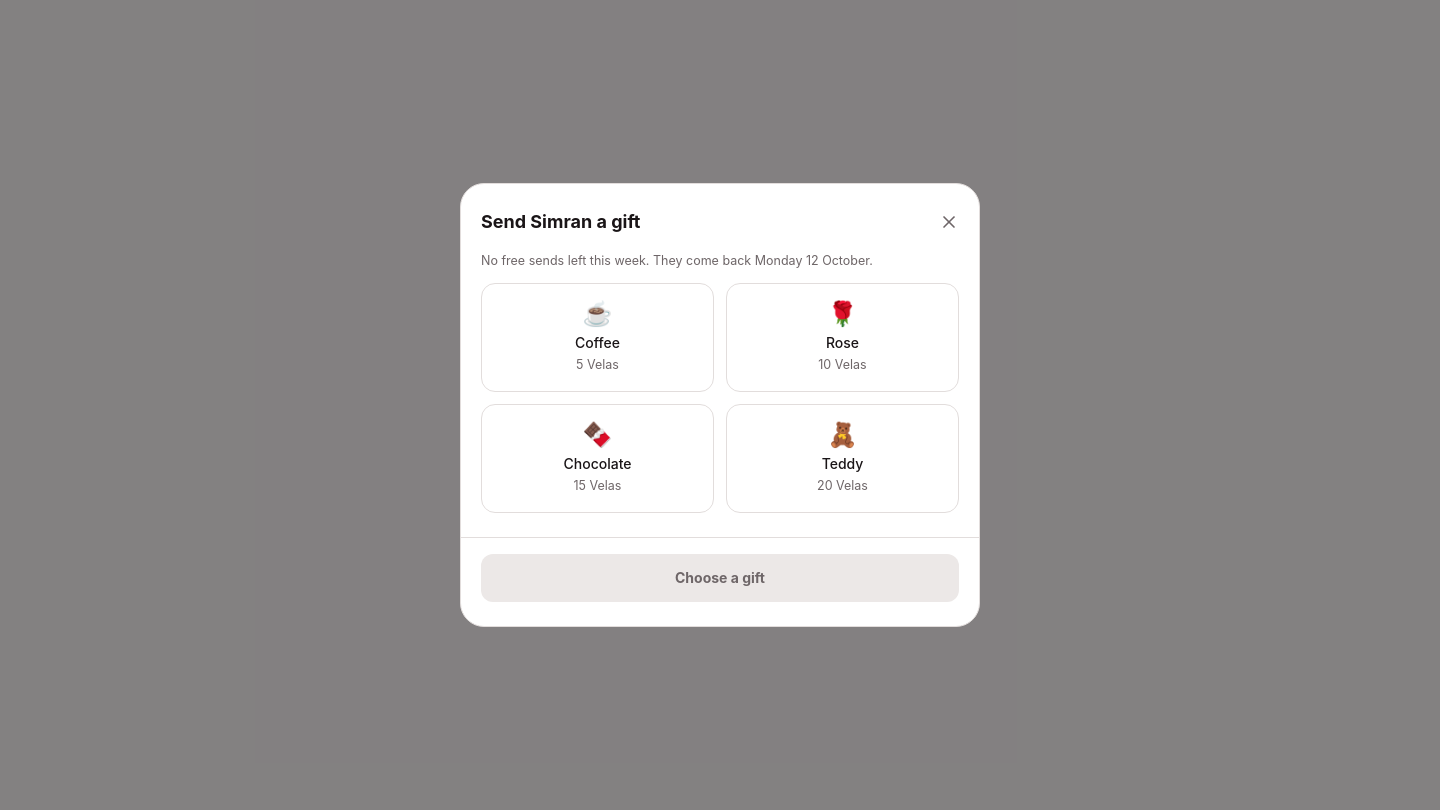
Test case: the gift sheet (T-8.10) › PRICE_CHANGED to 0: says it is free now
The width and height of the screenshot is (1440, 810).
Click the button "🌹 Rose 10 Velas" at (842, 337), box [726,283,959,392]
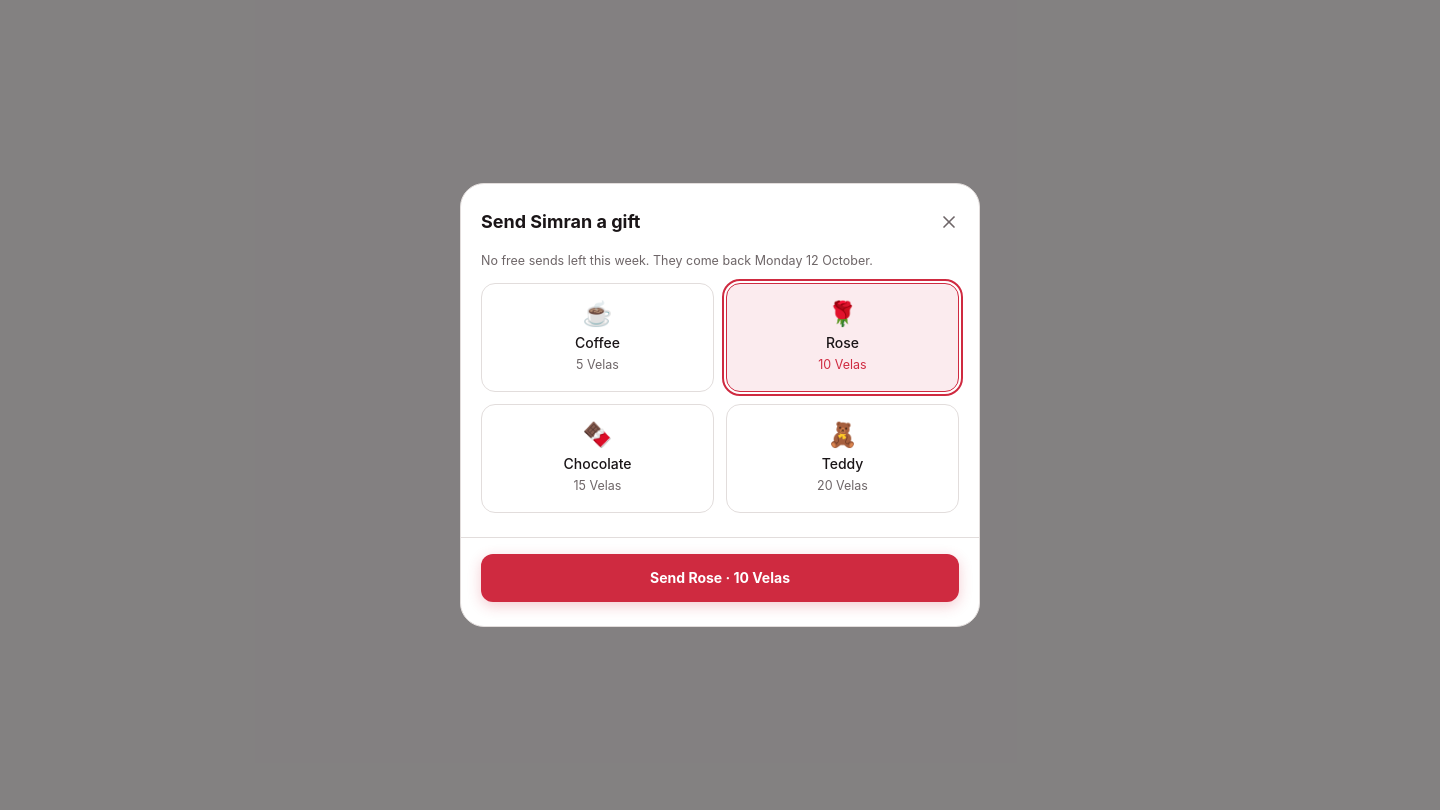
Click the button "Send Rose · 10 Velas" at (720, 578), box [481,554,959,602]
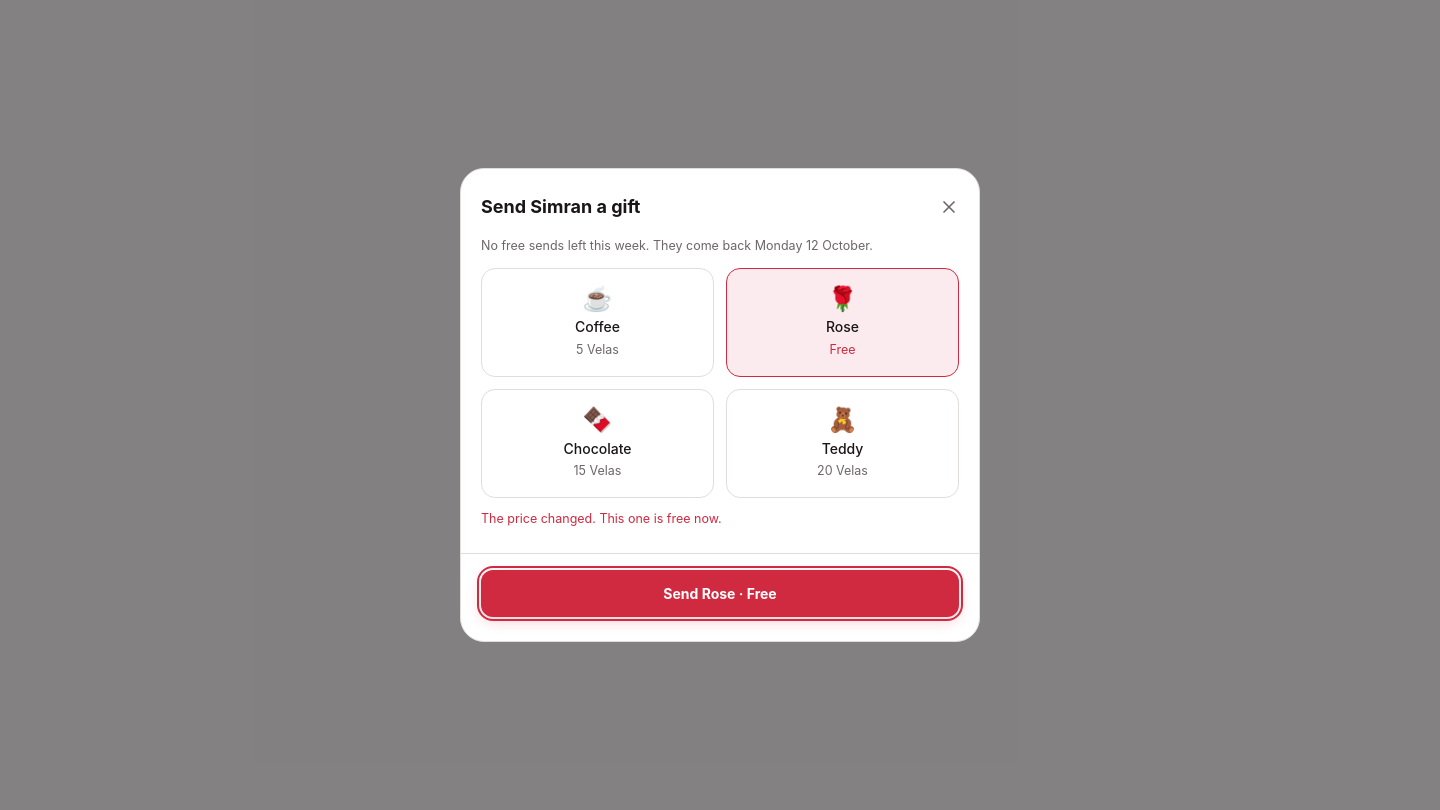
Check: the text "The price changed. This one is free now." is shown, box [481,511,722,526]
